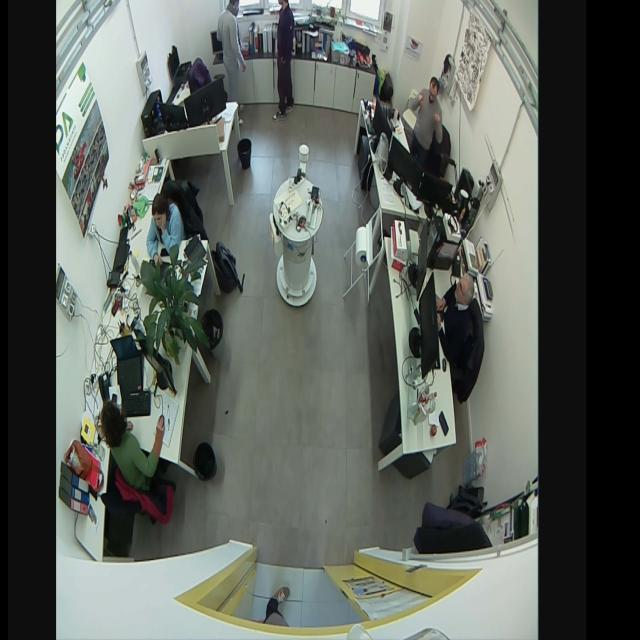Persona: (99, 397, 165, 493), (434, 271, 481, 368), (213, 0, 246, 113), (406, 74, 448, 162), (271, 0, 298, 123), (146, 191, 185, 273)
